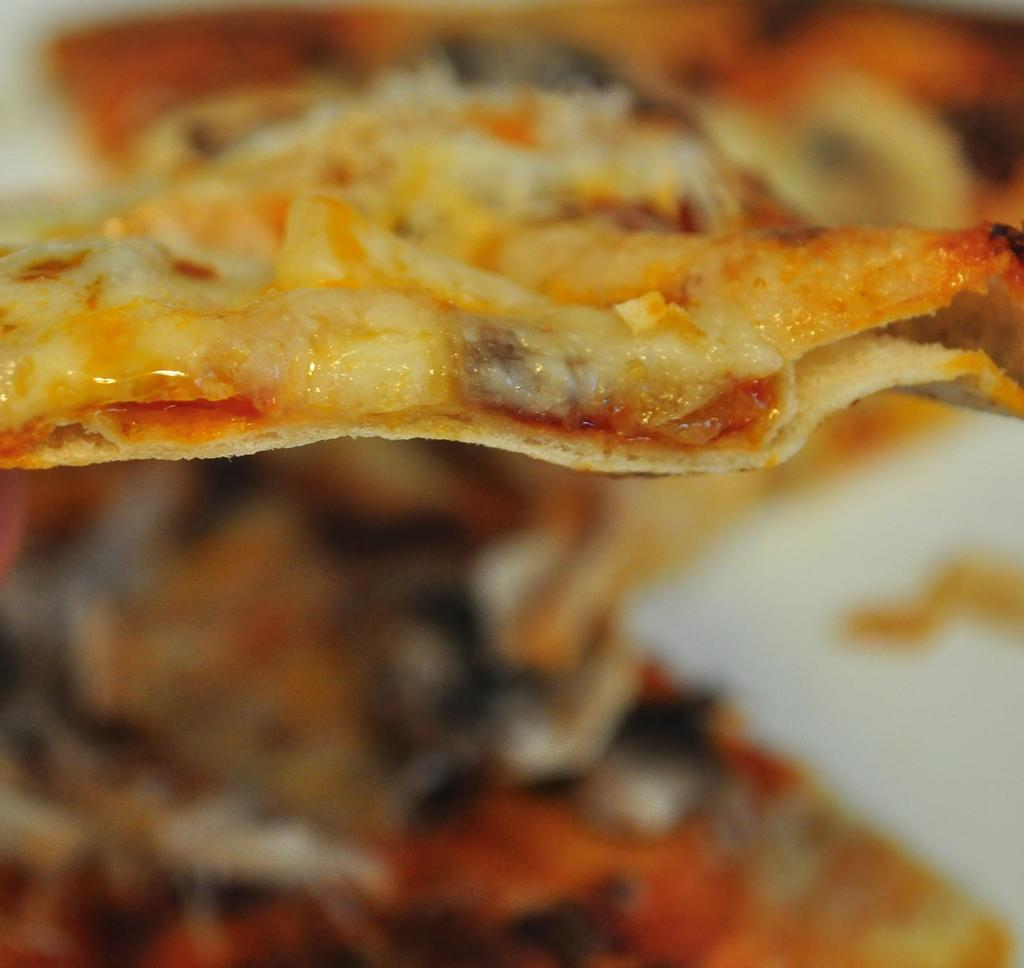Pizza: (5, 84, 1024, 475)
